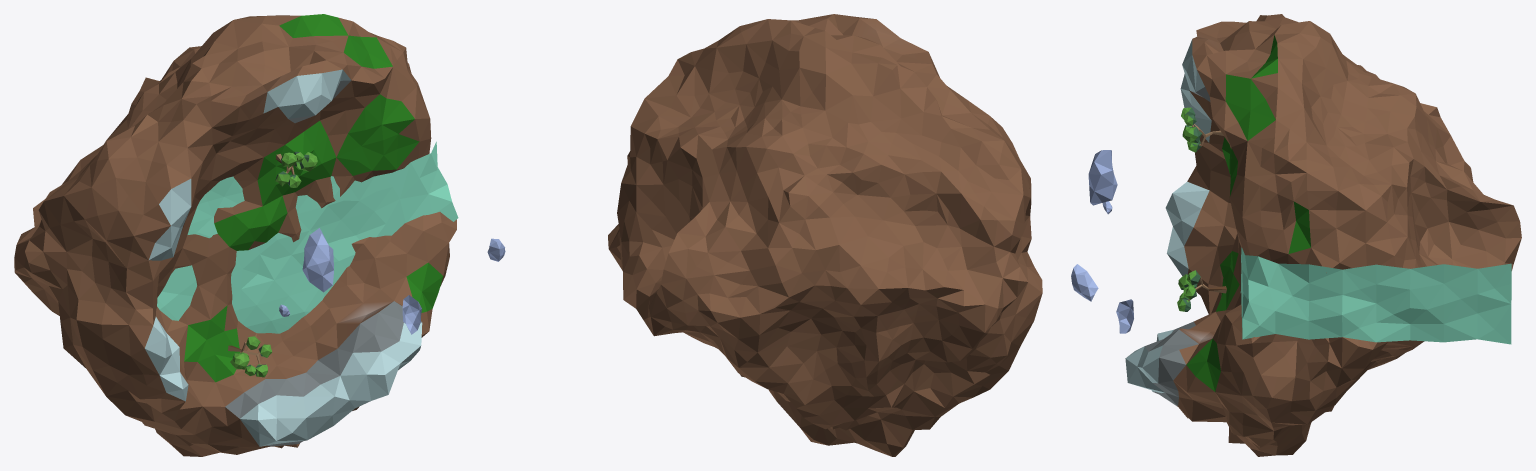
Rendered from island.gltf.
The picture shows the model from 3 angles, left to right: view 1: azimuth 30°, elevation 25°; view 2: azimuth 150°, elevation 25°; view 3: azimuth 270°, elevation 25°; orthographic projection. The views are drawn at different scales.
Parts seen in each view (by area): view 1: Icosphere, Plane, Icosphere.001, Cube.001, Cube; view 2: Icosphere; view 3: Icosphere, Plane, Icosphere.001, Cube.001, Cube.
Boxes of the visible parts, x1,y1,x2,y2 form: Icosphere: (14, 14, 456, 456); Plane: (157, 141, 458, 333); Icosphere.001: (279, 228, 505, 334); Cube.001: (228, 336, 272, 377); Cube: (275, 151, 317, 187); Icosphere: (608, 14, 1042, 456); Icosphere: (1125, 14, 1521, 456); Plane: (1240, 247, 1511, 344); Icosphere.001: (1071, 150, 1133, 333); Cube.001: (1177, 270, 1226, 311); Cube: (1181, 107, 1223, 152).
Size of the model in its own units: 20.2 by 19.97 by 19.17.
